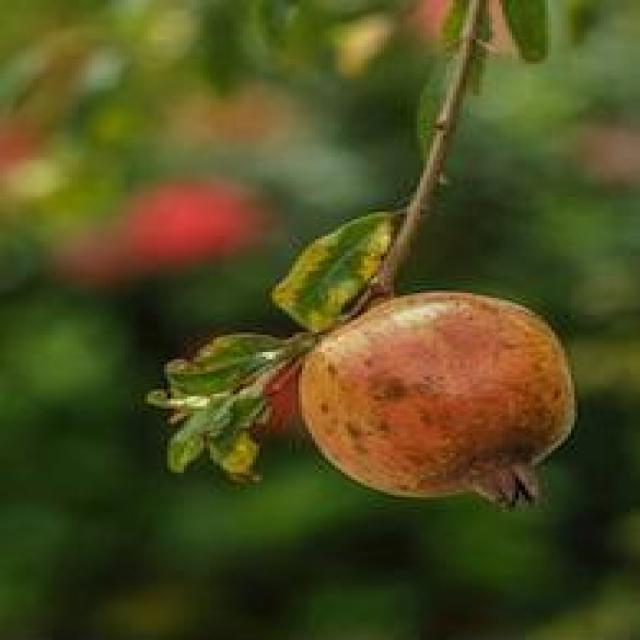Pomegranate: (293, 286, 578, 517)
